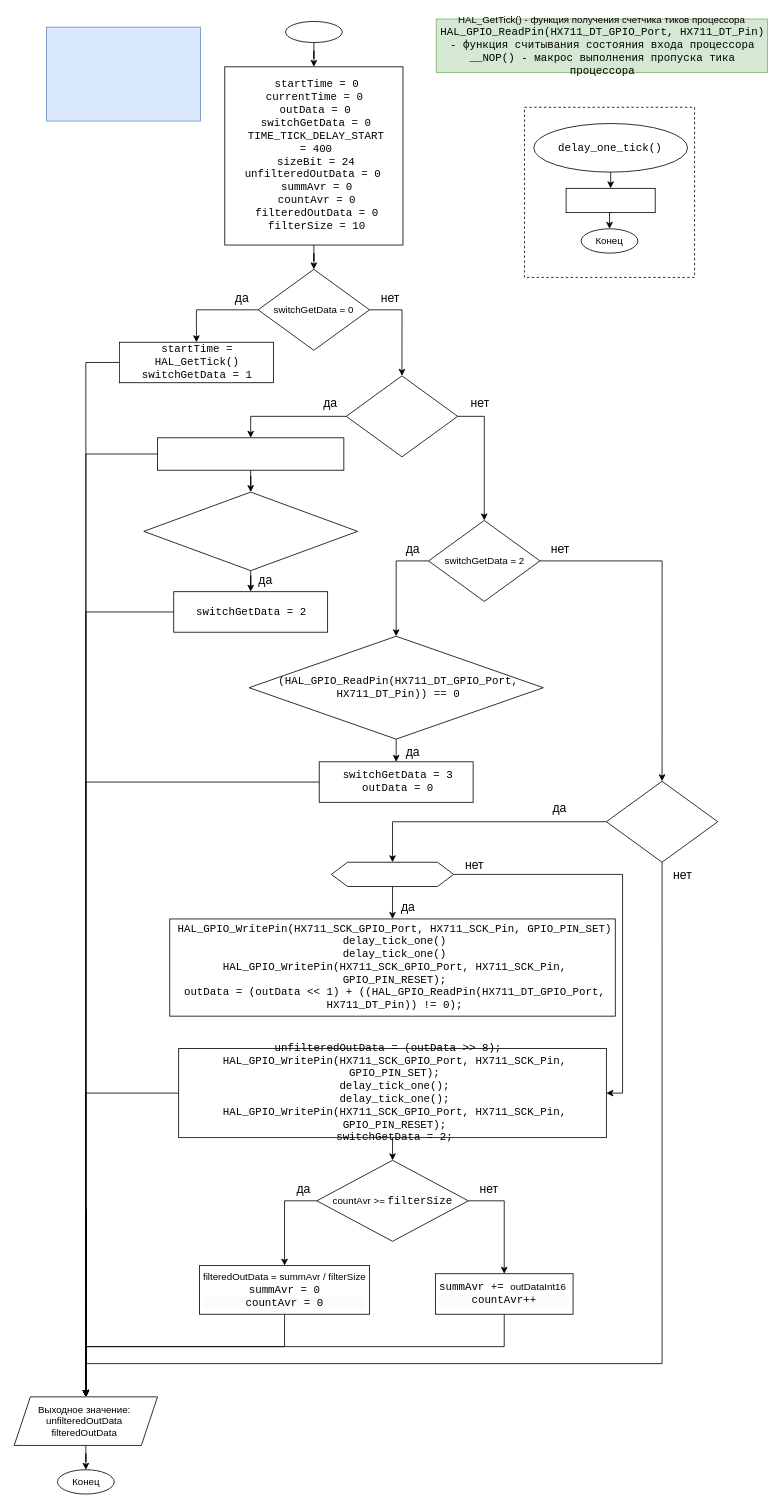
Some shapes in this 782 by 1508 pixel diagram are drawn without their labels. The centre of each missing label's shape, as x and y in pixels:
"(currentTime - startTime) > TIME_TICK_DELAY_START" goes at [250,531].
"__NOP()" goes at [610,200].
"currentTime = HAL_GetTick()" goes at [250,453].
"i = 1; i < sizeBit; i++" goes at [392,874].
"switchGetData = 1" goes at [401,416].
"switchGetData = 3" goes at [662,821].
"Начало" goes at [313,32].
"Получение и фильтрация данных с усилителя HX711" goes at [123,73].
